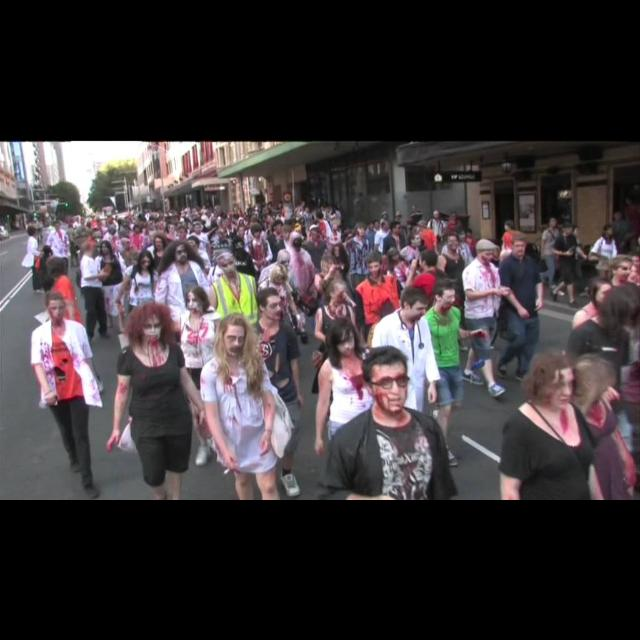head: (364, 348, 410, 414), (531, 352, 577, 412), (573, 358, 611, 402), (135, 306, 167, 344), (399, 286, 431, 324), (222, 314, 248, 358), (329, 318, 356, 358), (256, 288, 284, 320), (433, 282, 457, 312), (185, 284, 208, 314), (46, 292, 68, 322), (216, 253, 238, 279), (366, 254, 384, 280), (46, 256, 66, 278), (328, 282, 348, 304), (419, 249, 439, 271), (510, 236, 528, 260), (172, 242, 190, 264), (478, 244, 496, 266), (276, 248, 292, 270), (272, 265, 288, 285), (322, 256, 338, 276), (140, 252, 154, 270), (446, 233, 460, 251), (390, 220, 404, 236), (387, 248, 401, 264), (291, 233, 303, 251), (408, 232, 422, 246), (331, 244, 345, 258), (82, 240, 94, 256), (232, 236, 244, 252), (355, 222, 367, 238), (101, 242, 113, 256), (250, 224, 262, 238), (454, 229, 466, 243), (563, 222, 575, 236), (570, 226, 582, 238), (604, 224, 616, 236), (310, 228, 320, 242), (28, 226, 38, 238), (548, 216, 558, 228), (504, 222, 514, 232), (381, 220, 391, 230), (450, 212, 458, 222), (465, 228, 473, 238), (419, 222, 427, 232), (434, 210, 441, 220), (54, 222, 62, 230), (44, 246, 52, 254)
person: (416, 280, 496, 472), (234, 286, 306, 498), (167, 283, 236, 469), (38, 253, 106, 397), (204, 250, 264, 408), (457, 235, 513, 398), (152, 238, 214, 380), (492, 231, 546, 387), (352, 251, 408, 394), (313, 280, 365, 404), (405, 242, 453, 374), (258, 260, 308, 384), (113, 246, 163, 352), (258, 245, 302, 362), (433, 231, 471, 357), (312, 254, 354, 366), (282, 230, 320, 346), (76, 238, 114, 344), (93, 240, 131, 336), (324, 242, 358, 342), (346, 220, 376, 326), (548, 220, 584, 308), (241, 222, 275, 306), (441, 227, 477, 306), (226, 234, 256, 320), (590, 222, 620, 306), (383, 246, 415, 324), (399, 230, 429, 312), (382, 216, 410, 302), (302, 224, 328, 316), (539, 216, 567, 298), (500, 219, 528, 297), (562, 223, 590, 295), (20, 223, 48, 294), (46, 218, 72, 284), (371, 218, 397, 278), (36, 244, 60, 308), (425, 207, 449, 271), (416, 218, 440, 276), (444, 207, 466, 259), (462, 226, 482, 280)
